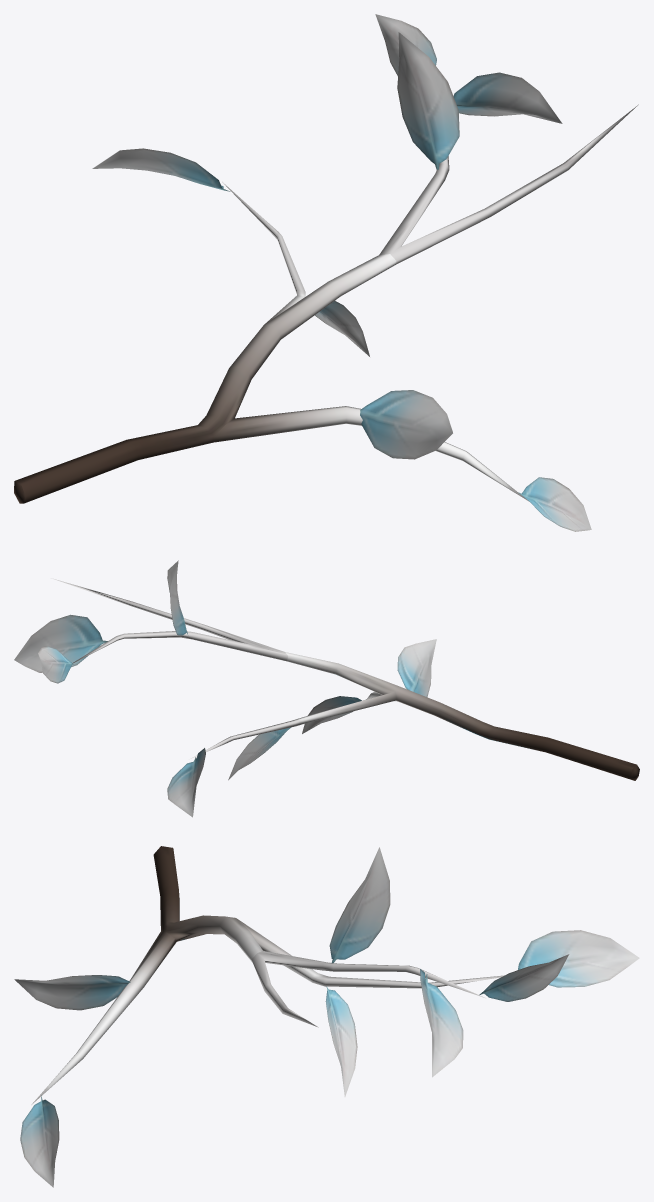
The model's file is Branch.glb.
The picture shows the model from 3 angles, top to bottom: view 1: azimuth 30°, elevation 25°; view 2: azimuth 150°, elevation 25°; view 3: azimuth 270°, elevation 25°; orthographic projection. The views are drawn at different scales.
Parts seen in each view (by area): view 1: SkillObj_Albedo_Branch_LOD0; view 2: SkillObj_Albedo_Branch_LOD0; view 3: SkillObj_Albedo_Branch_LOD0.
Boxes of the visible parts, x1=… form: SkillObj_Albedo_Branch_LOD0: x1=14, y1=14, x2=638, y2=531; SkillObj_Albedo_Branch_LOD0: x1=14, y1=560, x2=639, y2=817; SkillObj_Albedo_Branch_LOD0: x1=14, y1=846, x2=639, y2=1187.
Bounding box in the file's own units: 0.3863 × 0.1924 × 0.3256.
Materials: 2 (2 with a texture image).
